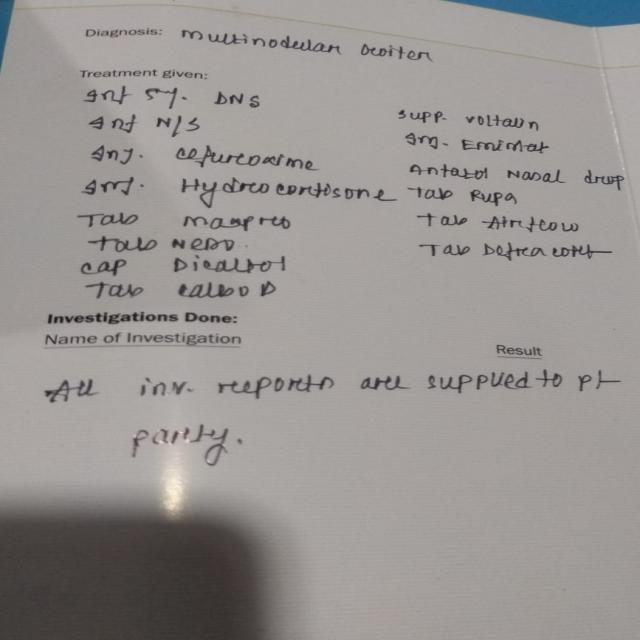Airflow: (480, 213, 585, 240)
Antazol: (405, 157, 499, 182)
Calbo D: (167, 280, 289, 305)
Cefuroxime: (170, 141, 330, 179)
DNS: (204, 82, 274, 115)
Defracort: (478, 238, 611, 267)
Dicaltrol: (163, 254, 298, 281)
Eminate: (454, 133, 557, 159)
Hydrocortisone: (171, 174, 398, 206)
Maxpro: (170, 207, 298, 235)
N-S: (147, 109, 216, 138)
Neso: (164, 233, 244, 255)
Rupa: (461, 185, 528, 210)
Voltalin: (455, 108, 549, 134)
